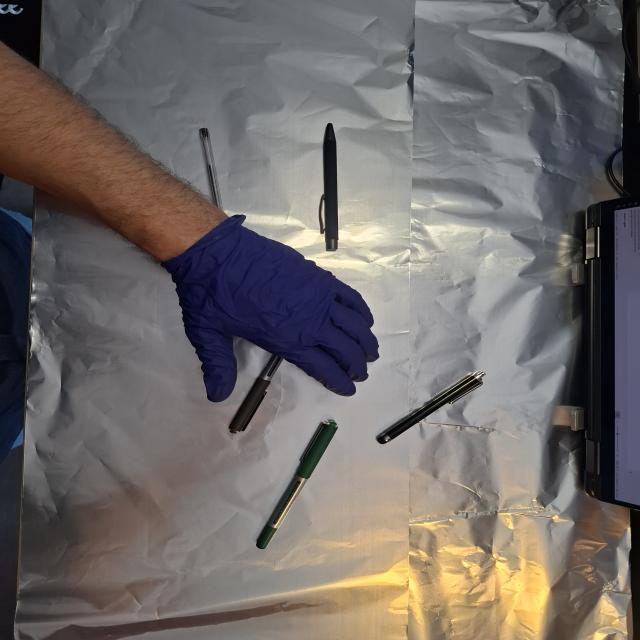glove_on: (168, 215, 384, 405)
